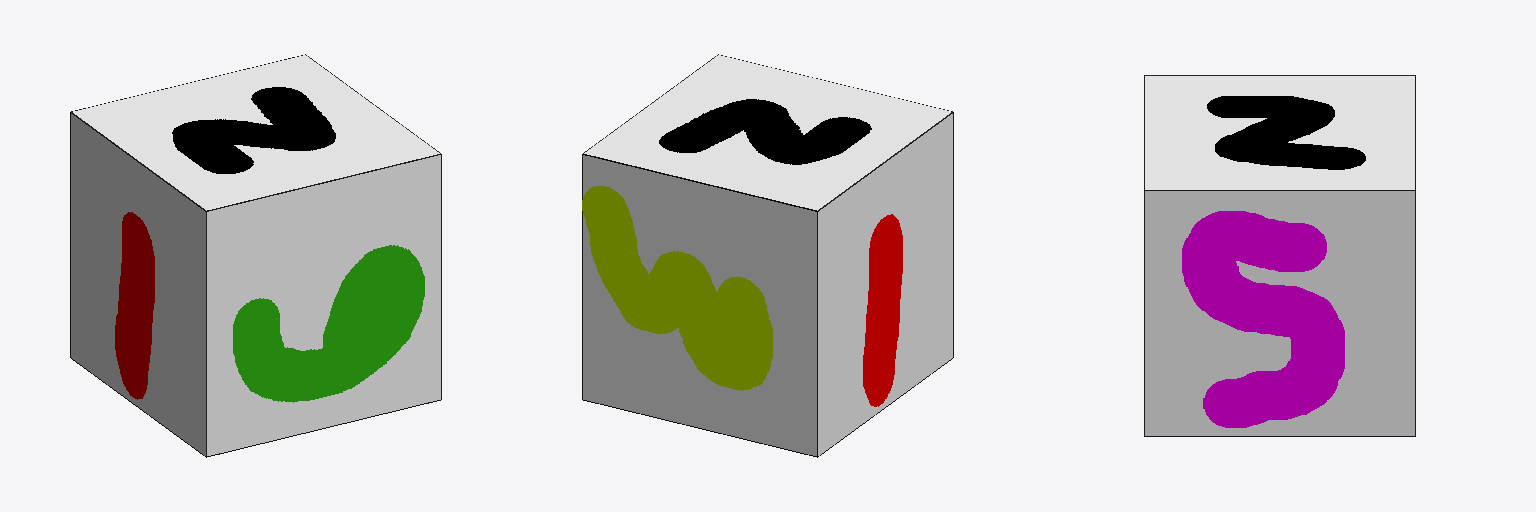
The picture shows the model from 3 angles: view 1: azimuth 30°, elevation 25°; view 2: azimuth 150°, elevation 25°; view 3: azimuth 270°, elevation 25°; orthographic projection.
Visible parts, largest first — view 1: Cube; view 2: Cube; view 3: Cube.
Boxes of the visible parts, box(x1,y1,x2,y2) form: Cube: box(70, 54, 441, 457); Cube: box(582, 54, 953, 457); Cube: box(1144, 75, 1415, 436).
Size of the model in its own units: 2 by 2 by 2.
Materials: 1 (1 with a texture image).